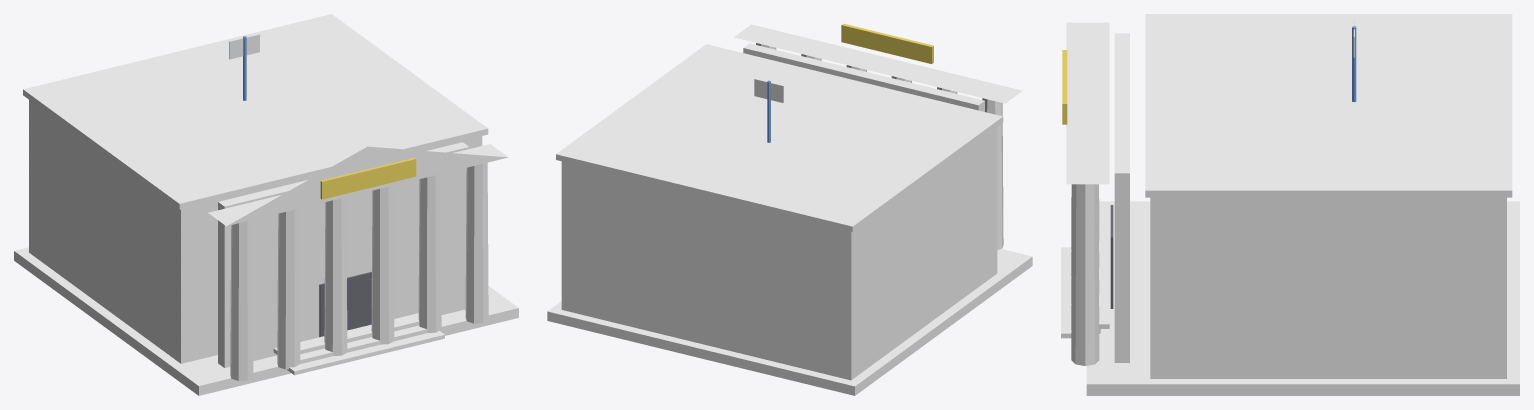
Rendered from bank.glb.
The picture shows the model from 3 angles, left to right: view 1: azimuth 30°, elevation 25°; view 2: azimuth 150°, elevation 25°; view 3: azimuth 270°, elevation 25°; orthographic projection. The views are drawn at different scales.
Parts seen in each view (by area): view 1: bank; view 2: bank; view 3: bank.
Boxes of the visible parts, x1,y1,x2,y2 form: bank: (14,14,518,395); bank: (547,23,1032,395); bank: (1061,14,1519,395).
Bounding box in the file's own units: 17 × 12 × 18.
